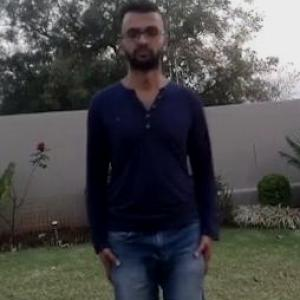follow: (86, 6, 223, 299)
